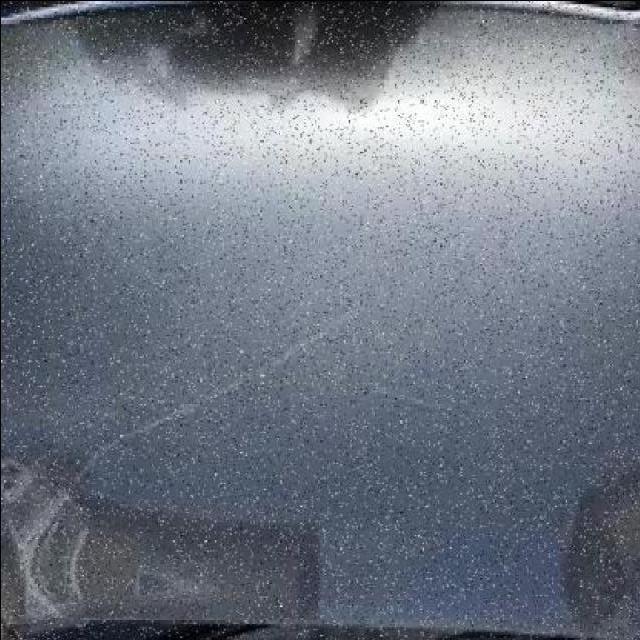bonnet-dent: (2, 3, 640, 637)
